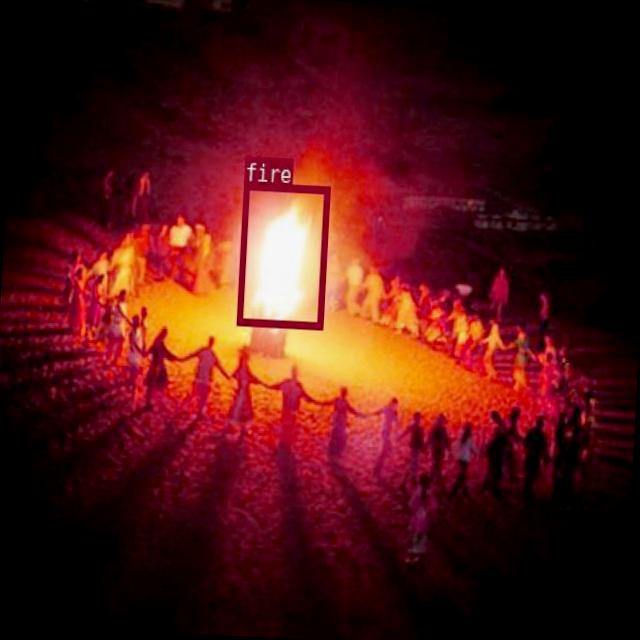fire: (236, 182, 328, 329)
